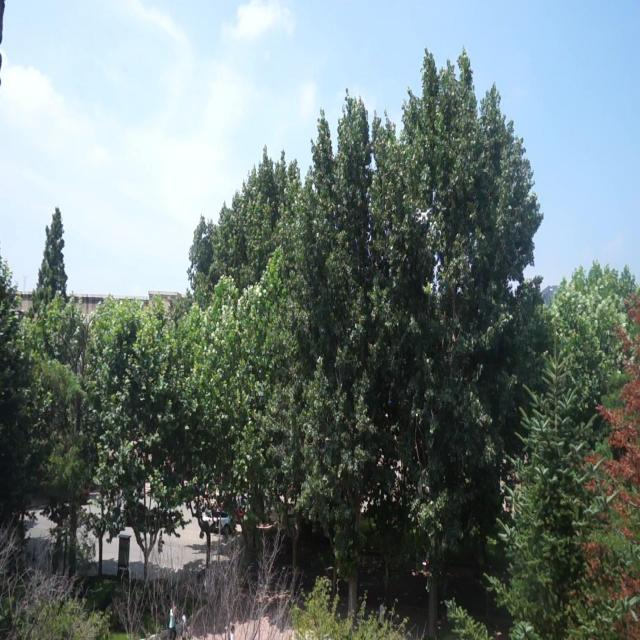UAV: (415, 208, 433, 225)
